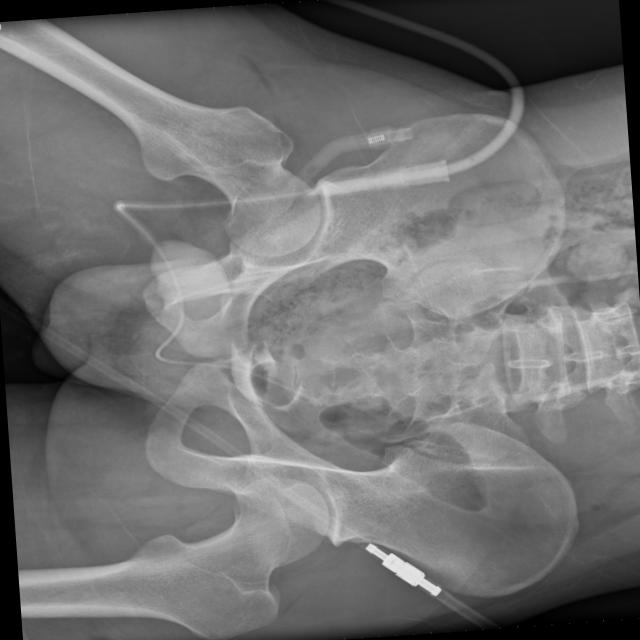normal-left: (17, 475, 329, 640)
normal-right: (42, 38, 321, 257)
